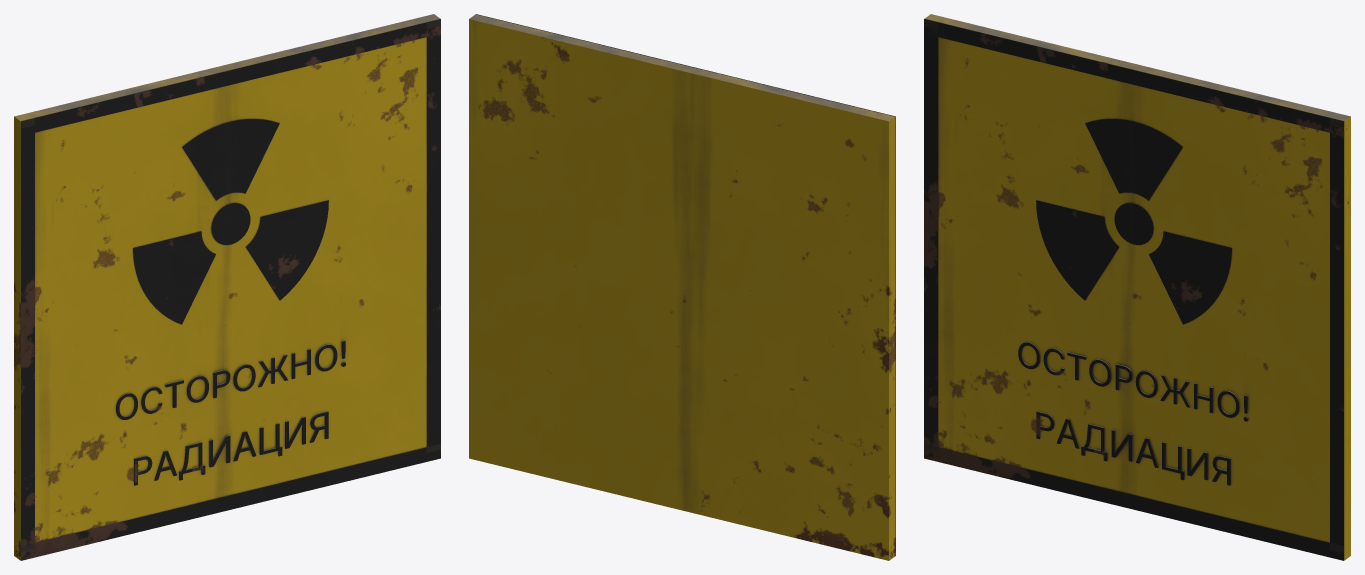
File: SM_Sign_Radiation.fbx
The picture shows the model from 3 angles, left to right: view 1: azimuth 30°, elevation 25°; view 2: azimuth 150°, elevation 25°; view 3: azimuth 330°, elevation 25°; orthographic projection.
Visible parts, largest first — view 1: SM_Sign_Radiation; view 2: SM_Sign_Radiation; view 3: SM_Sign_Radiation.
Part boxes in pixels (<box>): SM_Sign_Radiation: <box>14,14,440,560</box>; SM_Sign_Radiation: <box>469,14,895,560</box>; SM_Sign_Radiation: <box>924,14,1350,560</box>.
Size of the model in its own units: 0.3 by 0.3 by 0.0094.
Materials: 1 (1 with a texture image).
